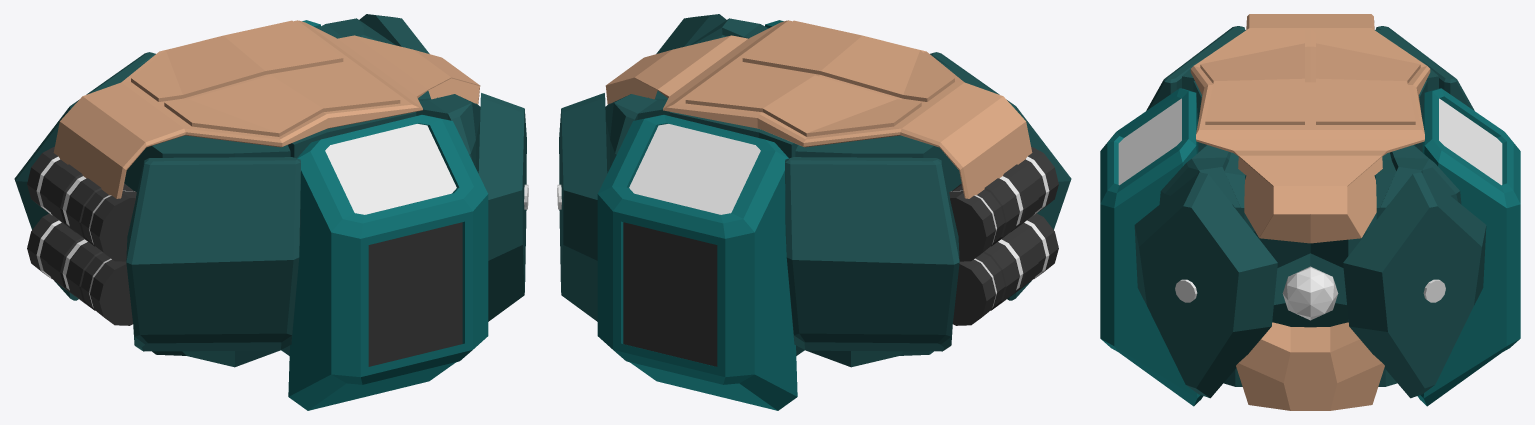
File: Light Weight Spider Body Model.fbx
3 views of the same model, side by side, from view 1: azimuth 30°, elevation 25°; view 2: azimuth 150°, elevation 25°; view 3: azimuth 270°, elevation 25° (orthographic). The views are drawn at different scales.
Visible parts, largest first — view 1: Spider Head; view 2: Spider Head; view 3: Spider Head.
Boxes of the visible parts, x1=… form: Spider Head: x1=14, y1=14, x2=528, y2=410; Spider Head: x1=557, y1=14, x2=1071, y2=410; Spider Head: x1=1100, y1=14, x2=1520, y2=410.
Bounding box in the file's own units: 2.83 × 1.83 × 2.49.
